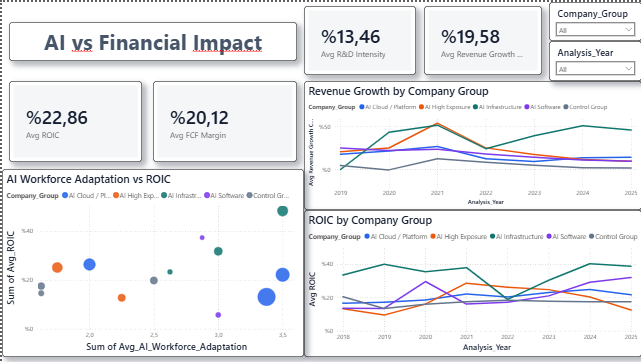

The dashboard page shown, as its layout file describes it:
{"tool":"powerbi","page":{"name":"AI vs Financial Impact","canvas":[1280,720],"ordinal":1},"visuals":[{"type":"cardVisual","fields":{"Data":["Final_AI_Impact_Data.Avg R&D Intensity"]},"box":[604,8,224,138],"z":0},{"type":"cardVisual","fields":{"Data":["Final_AI_Impact_Data.Avg ROIC"]},"box":[14,158,266,162],"z":1000},{"type":"cardVisual","fields":{"Data":["Final_AI_Impact_Data.Avg FCF Margin"]},"box":[302,158,288,162],"z":2000},{"type":"cardVisual","fields":{"Data":["Final_AI_Impact_Data.Avg Revenue Growth Corrected"]},"box":[844,8,236,138],"z":3000},{"type":"lineChart","title":"Revenue Growth by Company Group","fields":{"Category":["Final_AI_Impact_Data.Analysis_Year"],"Series":["Final_AI_Impact_Data.Company_Group"],"Y":["Final_AI_Impact_Data.Avg Revenue Growth Corrected"]},"box":[604,158,676,258],"z":4000},{"type":"lineChart","title":"ROIC by Company Group","fields":{"Category":["Final_AI_Impact_Data.Analysis_Year"],"Series":["Final_AI_Impact_Data.Company_Group"],"Y":["Final_AI_Impact_Data.Avg ROIC"]},"box":[604,416,676,294],"z":5000},{"type":"scatterChart","title":"AI Workforce Adaptation vs ROIC","fields":{"Category":["vw_company_summary.Company"],"Series":["vw_company_summary.Company_Group"],"Size":["Sum(vw_company_summary.Revenue_2025)"],"X":["Sum(vw_company_summary.Avg_AI_Workforce_Adaptation)"],"Y":["Sum(vw_company_summary.Avg_ROIC)"]},"box":[0,334,604,376],"z":6000},{"type":"slicer","fields":{"Values":["vw_company_summary.Company_Group"]},"box":[1094,0,186,78],"z":7000},{"type":"slicer","fields":{"Values":["Final_AI_Impact_Data.Analysis_Year"]},"box":[1094,78,186,80],"z":8000},{"type":"textbox","box":[14,40,576,78],"z":9000}]}

Visuals, with their boxes in screenshot pixels (x1, y1, x2, y2), scaled from the page's 1280x720 canvas onto the 641x362 screenshot:
cardVisual - Final_AI_Impact_Data.Avg R&D Intensity: select_region(302, 4, 415, 73)
cardVisual - Final_AI_Impact_Data.Avg ROIC: select_region(7, 79, 140, 161)
cardVisual - Final_AI_Impact_Data.Avg FCF Margin: select_region(151, 79, 295, 161)
cardVisual - Final_AI_Impact_Data.Avg Revenue Growth Corrected: select_region(423, 4, 541, 73)
"Revenue Growth by Company Group" lineChart: select_region(302, 79, 640, 209)
"ROIC by Company Group" lineChart: select_region(302, 209, 640, 357)
"AI Workforce Adaptation vs ROIC" scatterChart: select_region(0, 168, 302, 357)
slicer - vw_company_summary.Company_Group: select_region(548, 0, 640, 39)
slicer - Final_AI_Impact_Data.Analysis_Year: select_region(548, 39, 640, 79)
textbox: select_region(7, 20, 295, 59)
